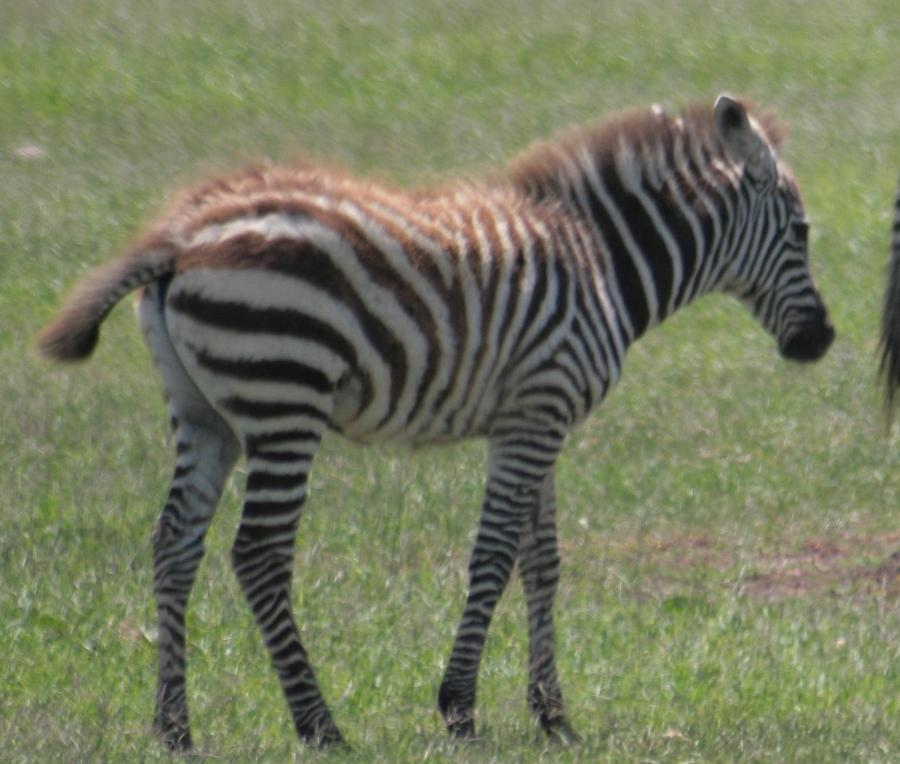zebra_plains: (181, 147, 637, 495)
